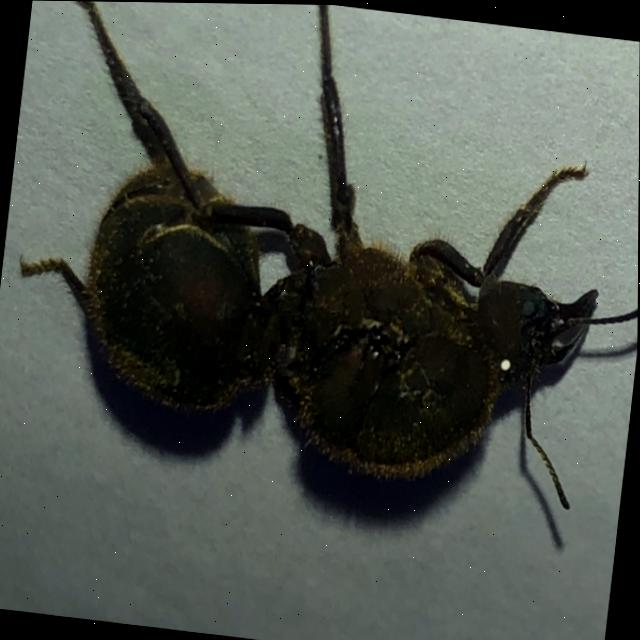Alive-Female-Dealate: (0, 0, 640, 514)
